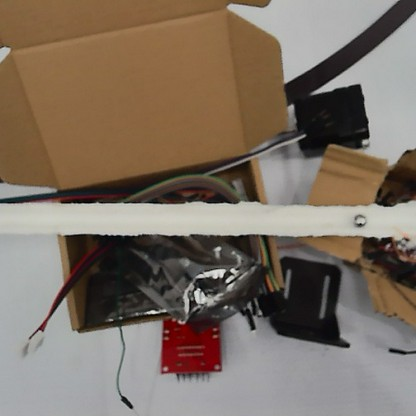ironball: (351, 210, 367, 230)
